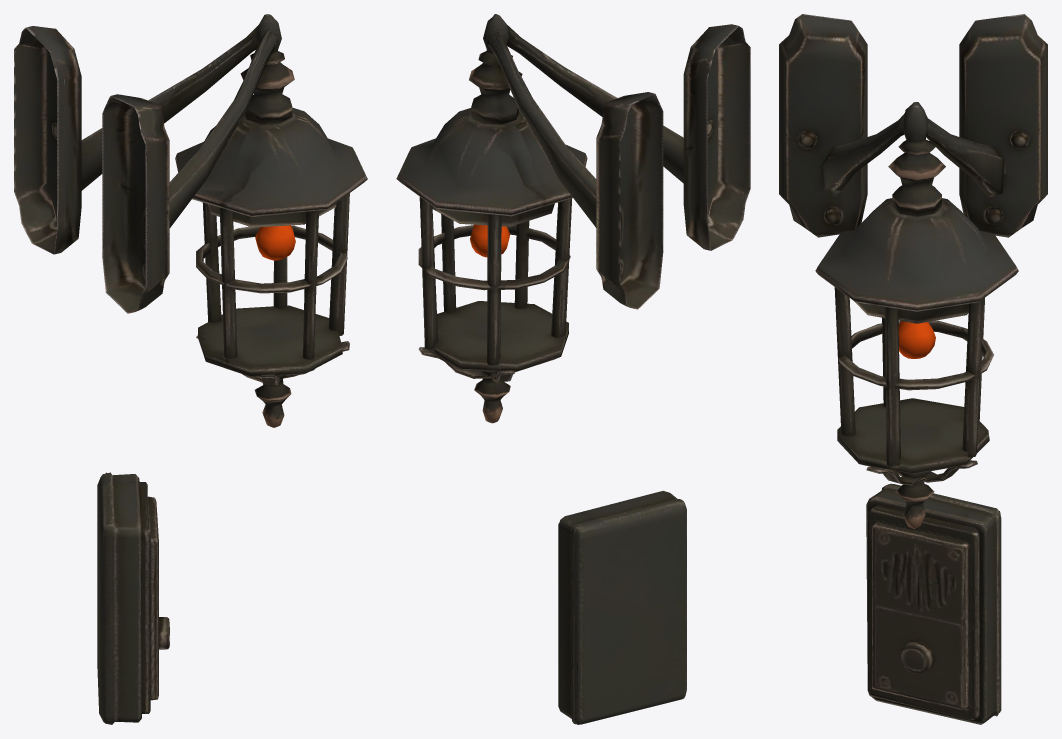
The model's file is Lantern and button.fbx.
The picture shows the model from 3 angles, left to right: view 1: azimuth 30°, elevation 25°; view 2: azimuth 150°, elevation 25°; view 3: azimuth 270°, elevation 25°; orthographic projection. The views are drawn at different scales.
Visible parts, largest first — view 1: tripo_node_74a2dcc4-dd24-48a5-9081-dfcdce4dc649, tripo_node_74a2dcc4-dd24-48a5-9081-dfcdce4dc649.001, tripo_node_74a2dcc4-dd24-48a5-9081-dfcdce4dc649.002; view 2: tripo_node_74a2dcc4-dd24-48a5-9081-dfcdce4dc649, tripo_node_74a2dcc4-dd24-48a5-9081-dfcdce4dc649.001, tripo_node_74a2dcc4-dd24-48a5-9081-dfcdce4dc649.002; view 3: tripo_node_74a2dcc4-dd24-48a5-9081-dfcdce4dc649, tripo_node_74a2dcc4-dd24-48a5-9081-dfcdce4dc649.001, tripo_node_74a2dcc4-dd24-48a5-9081-dfcdce4dc649.002.
Part boxes in pixels (<box>): tripo_node_74a2dcc4-dd24-48a5-9081-dfcdce4dc649: <box>14,14,367,427</box>; tripo_node_74a2dcc4-dd24-48a5-9081-dfcdce4dc649.001: <box>97,472,169,724</box>; tripo_node_74a2dcc4-dd24-48a5-9081-dfcdce4dc649.002: <box>255,225,295,260</box>; tripo_node_74a2dcc4-dd24-48a5-9081-dfcdce4dc649: <box>396,14,750,423</box>; tripo_node_74a2dcc4-dd24-48a5-9081-dfcdce4dc649.001: <box>558,491,686,724</box>; tripo_node_74a2dcc4-dd24-48a5-9081-dfcdce4dc649.002: <box>470,224,510,257</box>; tripo_node_74a2dcc4-dd24-48a5-9081-dfcdce4dc649: <box>779,14,1047,528</box>; tripo_node_74a2dcc4-dd24-48a5-9081-dfcdce4dc649.001: <box>866,483,1001,724</box>; tripo_node_74a2dcc4-dd24-48a5-9081-dfcdce4dc649.002: <box>898,321,935,358</box>.
Bounding box in the file's own units: 43.95 × 99.8 × 36.13.
2 materials, 1 textured.
